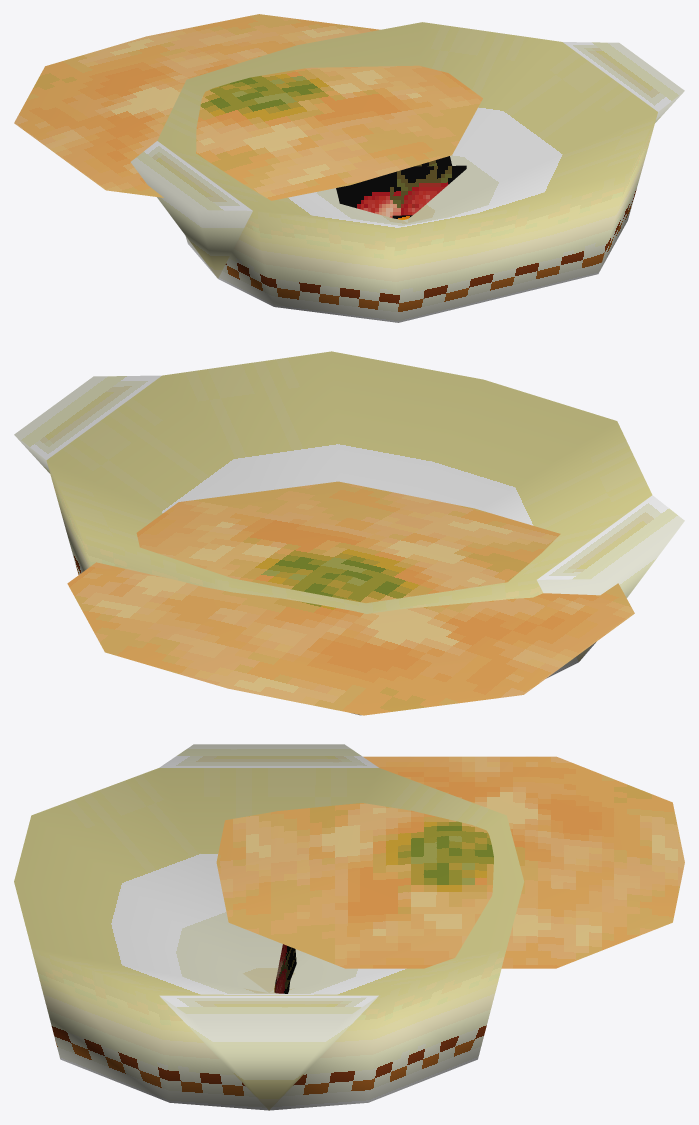
3 renders of one model, top to bottom at view 1: azimuth 30°, elevation 25°; view 2: azimuth 150°, elevation 25°; view 3: azimuth 270°, elevation 25°, orthographic. The views are drawn at different scales.
Visible parts, largest first — view 1: 5505u_soup02_hs; view 2: 5505u_soup02_hs; view 3: 5505u_soup02_hs.
Boxes of the visible parts, x1,y1,x2,y2 form: 5505u_soup02_hs: (14, 14, 684, 322); 5505u_soup02_hs: (14, 351, 684, 715); 5505u_soup02_hs: (14, 744, 684, 1110).
Bounding box in the file's own units: 0.769 × 0.2476 × 0.7563.
4 materials, 4 textured.
